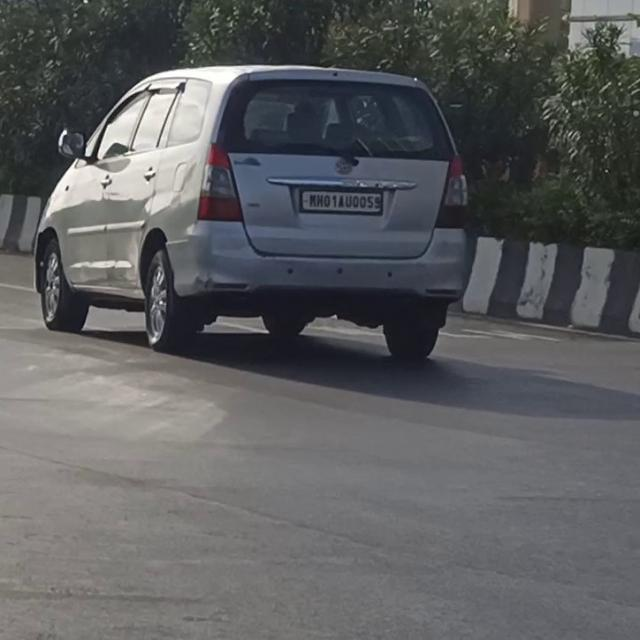license-plate: (300, 187, 382, 212)
